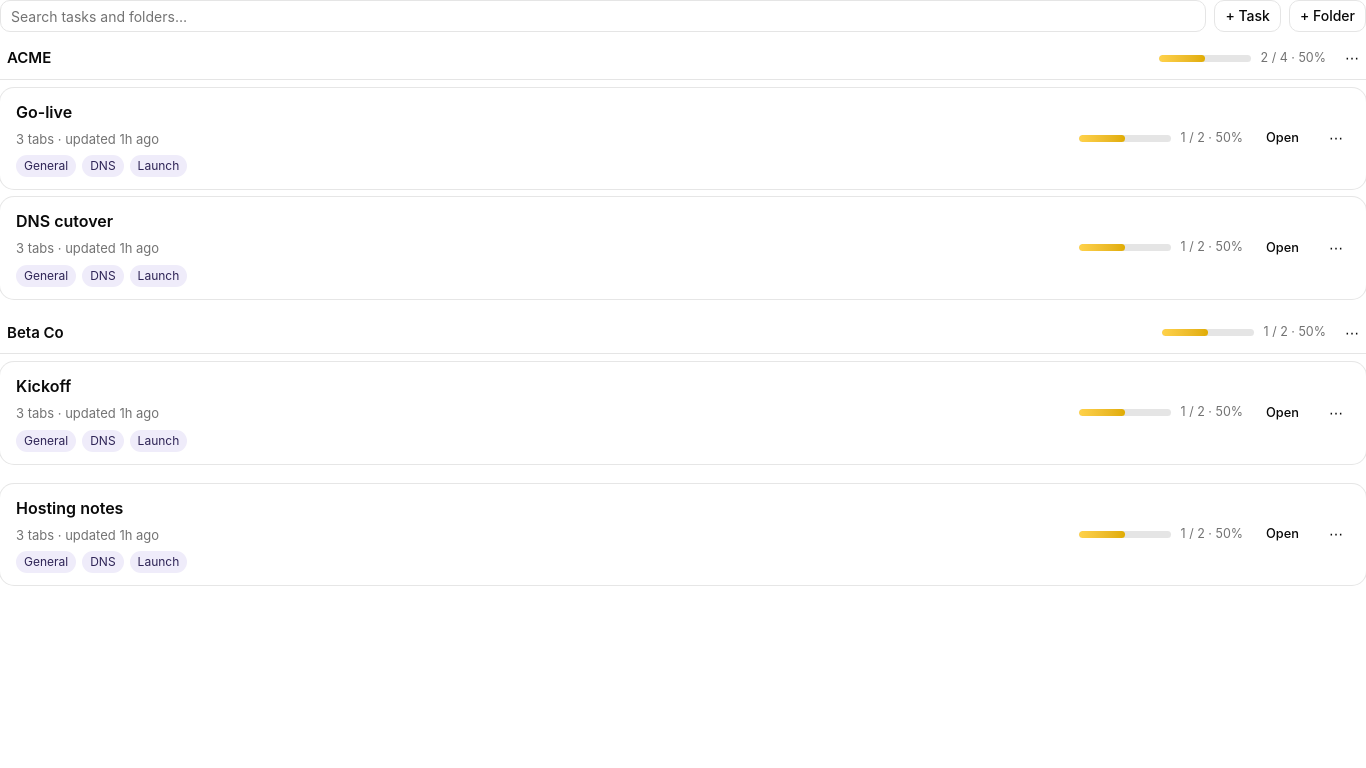
TaskTree › says why a create was refused
Click the button "+ Folder".
click(1327, 16)  # box x1=1289 y1=0 x2=1365 y2=32
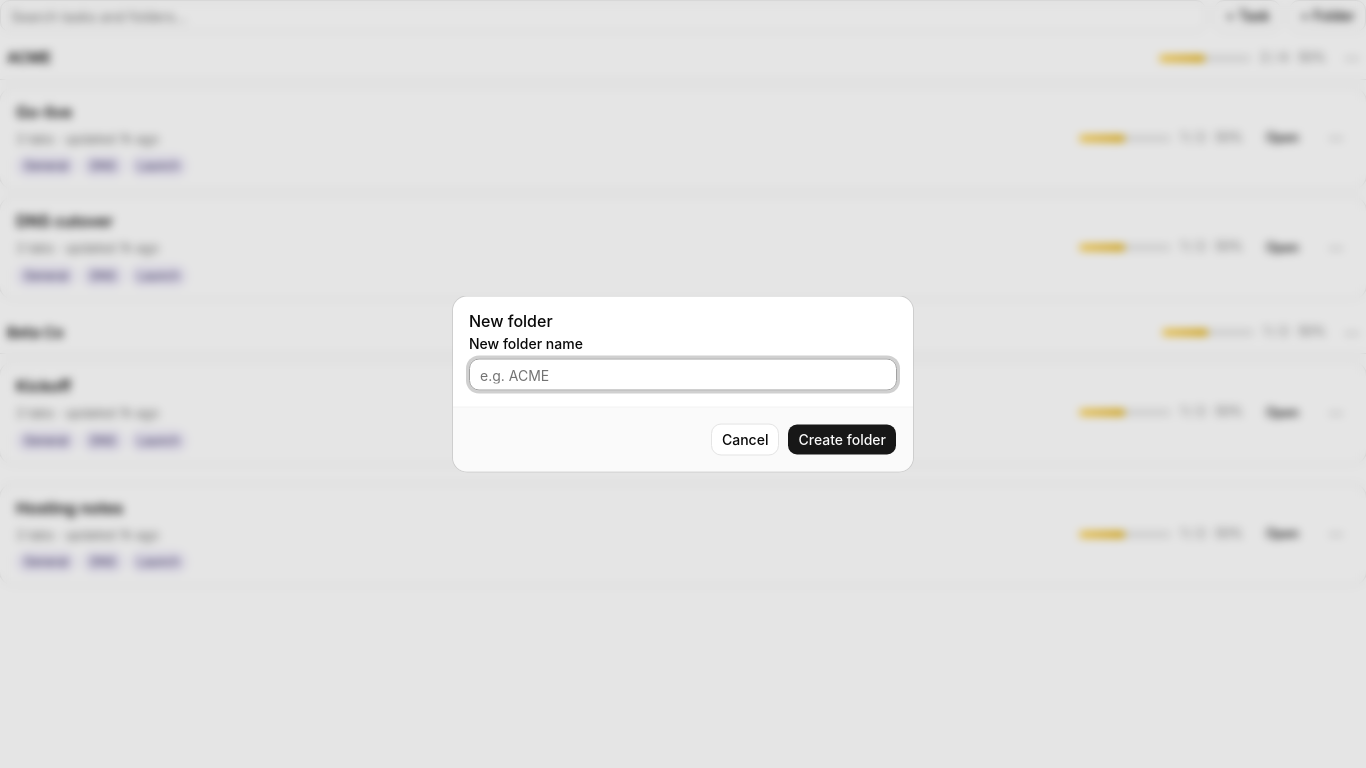
Type "Gamma" into the field labelled "New folder name".
click(683, 374); type("Gamma")  # box x1=469 y1=358 x2=897 y2=390
Then press Enter
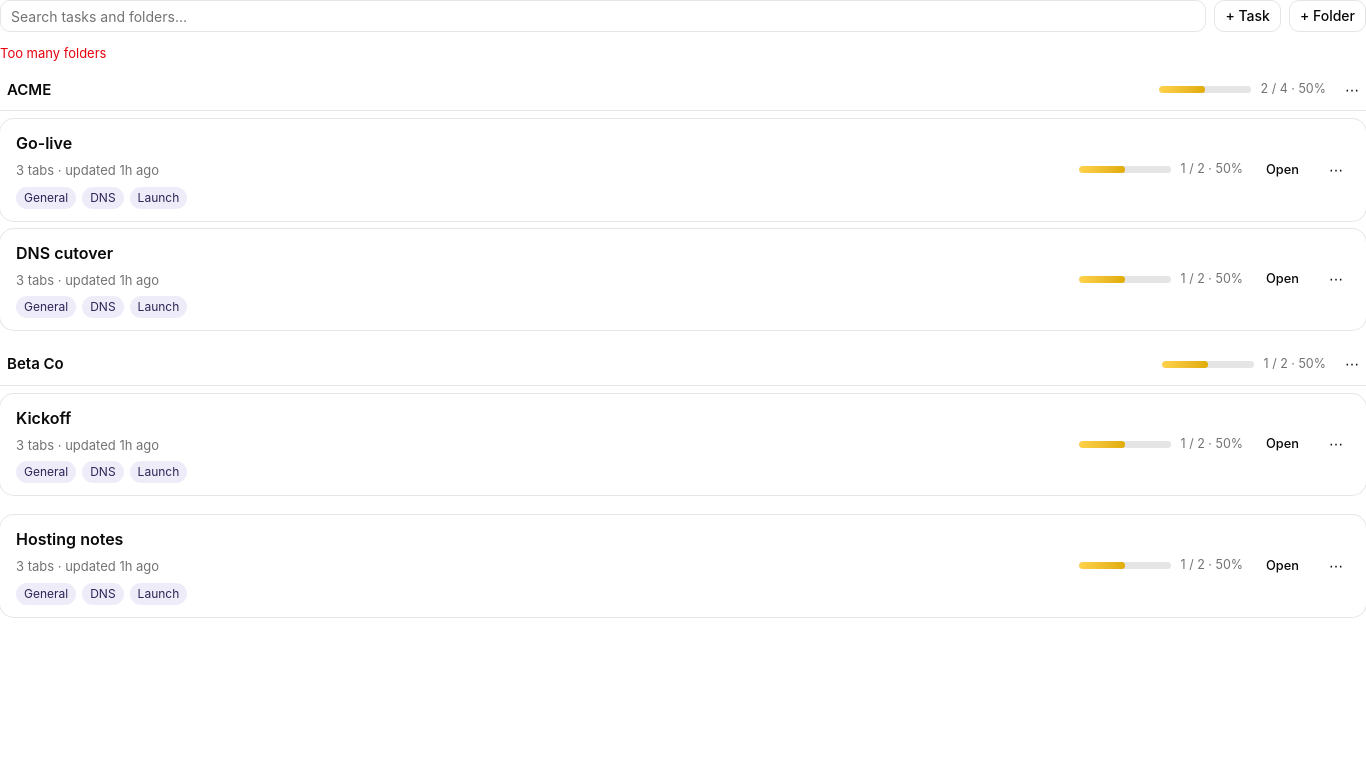
Result: the message reads "Too many folders" at x1=0 y1=45 x2=106 y2=61
